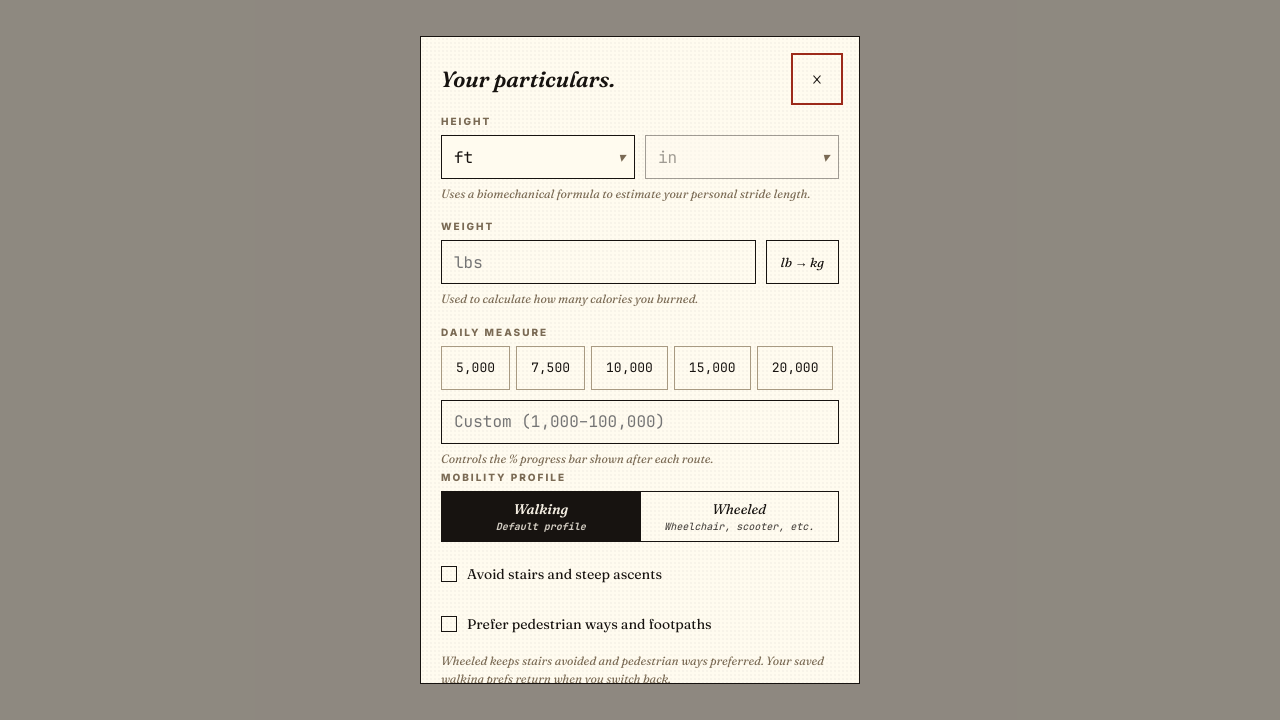
Test: PersonalizeModal — Mobility profile › disables the Avoid stairs checkbox and shows it on when profile is Wheeled
Click the radio button labelled "Wheeled Wheelchair, scooter, etc." at (739, 517), box [640,492,838,541]
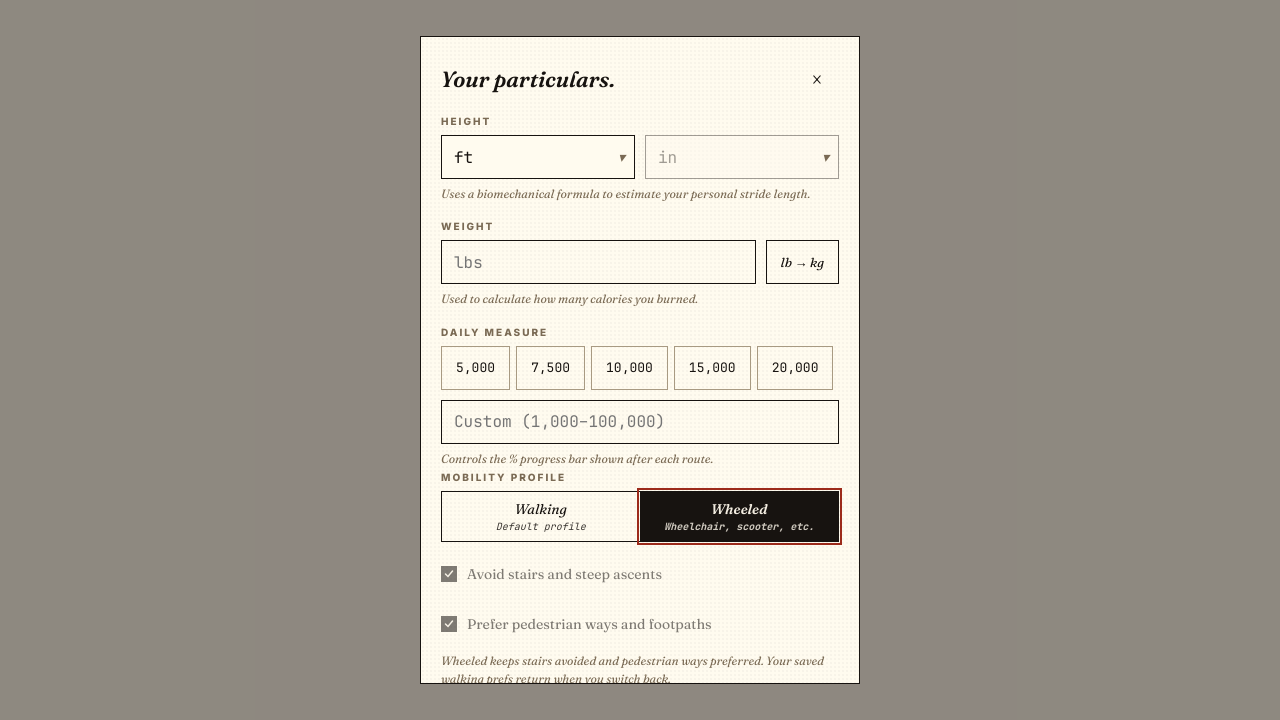
Result: the checkbox labelled "Avoid stairs and steep ascents" is checked at [441,565,662,583]
Result: the checkbox labelled "Avoid stairs and steep ascents" is disabled at [441,565,662,583]
